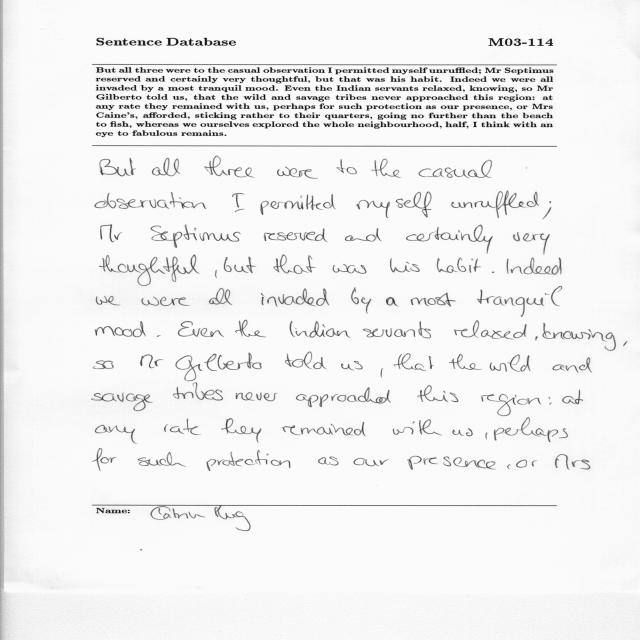word: (100, 255, 200, 286), (477, 286, 562, 317), (406, 225, 493, 254), (176, 353, 262, 381), (451, 191, 539, 218), (542, 323, 616, 351), (151, 225, 241, 248), (356, 191, 432, 218), (95, 192, 206, 209), (296, 387, 390, 407), (494, 418, 568, 443), (207, 450, 291, 471), (260, 194, 336, 215), (454, 320, 527, 339), (482, 394, 542, 416), (419, 160, 492, 178), (261, 288, 329, 307), (407, 456, 496, 470), (363, 321, 431, 339), (283, 422, 366, 436), (92, 393, 153, 411), (204, 156, 255, 177), (290, 321, 351, 338), (222, 418, 262, 443), (507, 258, 562, 275), (173, 383, 223, 401), (264, 228, 328, 242), (513, 232, 550, 255), (393, 419, 442, 436), (273, 255, 316, 274), (95, 321, 146, 337), (95, 425, 137, 444), (490, 354, 531, 372), (178, 321, 224, 337), (137, 452, 186, 467), (394, 353, 434, 371), (285, 352, 327, 369), (417, 385, 459, 402), (437, 257, 481, 273), (100, 158, 136, 176), (552, 357, 592, 373), (411, 293, 456, 307), (164, 418, 201, 435), (371, 159, 401, 178), (351, 287, 372, 314), (555, 454, 590, 470), (93, 448, 117, 471), (235, 320, 266, 337), (152, 158, 181, 176), (224, 257, 256, 273), (449, 354, 481, 370), (345, 228, 381, 242), (277, 167, 318, 179), (141, 296, 190, 306), (390, 259, 420, 273), (209, 288, 232, 305), (236, 393, 278, 402), (101, 225, 122, 242), (333, 264, 367, 274), (336, 159, 357, 174), (562, 390, 583, 405), (140, 355, 163, 368), (353, 458, 389, 466), (232, 193, 245, 212), (96, 296, 120, 305), (341, 361, 363, 370), (318, 457, 339, 466), (452, 428, 473, 436), (516, 460, 537, 468), (543, 202, 552, 220), (94, 361, 114, 369), (386, 297, 399, 306), (623, 341, 628, 346), (549, 397, 552, 405), (485, 433, 488, 440), (381, 368, 383, 378), (215, 270, 217, 278), (535, 336, 538, 341), (507, 464, 510, 469), (157, 335, 161, 337), (492, 272, 494, 273)
